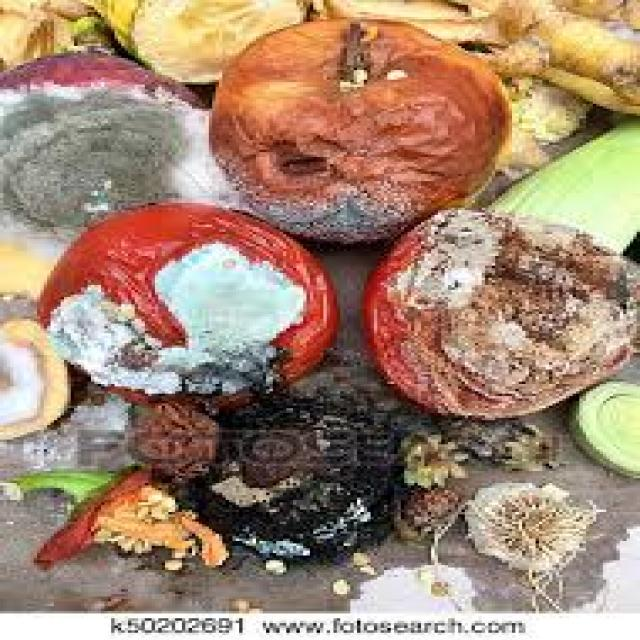organic waste: (206, 15, 508, 239), (30, 201, 334, 408), (357, 206, 637, 420), (0, 43, 216, 249), (303, 0, 637, 111), (182, 387, 401, 556), (0, 464, 226, 565), (488, 114, 636, 251), (77, 0, 310, 85), (465, 481, 596, 596), (0, 316, 71, 439), (431, 408, 563, 469), (121, 399, 222, 478), (0, 0, 115, 68), (566, 379, 637, 478), (381, 480, 458, 568), (391, 476, 465, 558), (495, 77, 596, 133), (388, 418, 468, 478), (596, 517, 637, 604), (492, 135, 549, 174), (343, 548, 374, 568), (327, 577, 350, 594), (260, 556, 280, 572), (162, 558, 182, 570), (357, 565, 374, 577), (229, 597, 249, 606)
